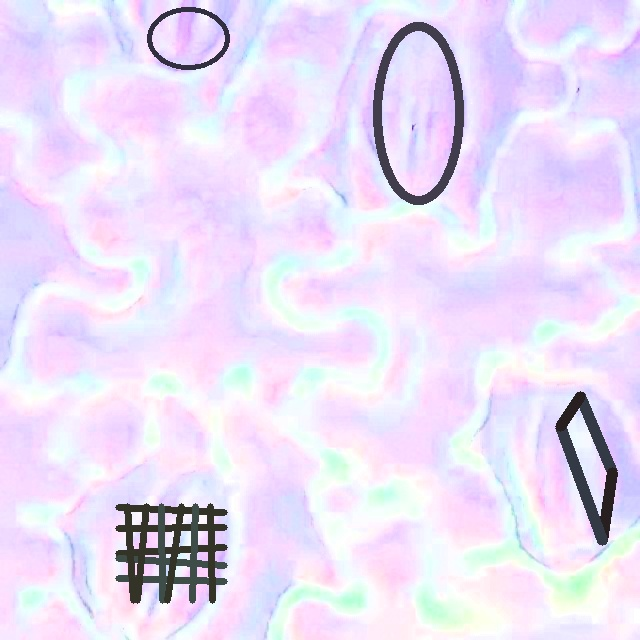close: (556, 391, 617, 544)
open: (371, 21, 464, 205), (116, 503, 227, 603), (145, 6, 230, 69)
